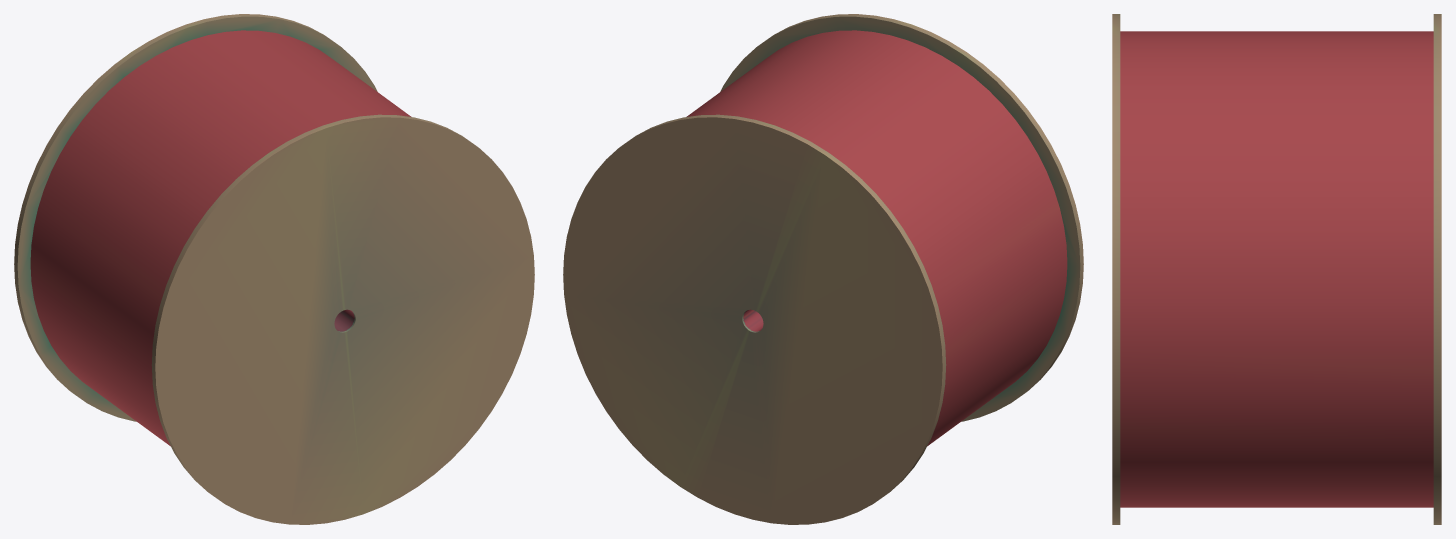
3 views of the same model, side by side, from view 1: azimuth 30°, elevation 25°; view 2: azimuth 150°, elevation 25°; view 3: azimuth 270°, elevation 25° (orthographic). The views are drawn at different scales.
Visible parts, largest first — view 1: disc, red_barrel, plate; view 2: plate, red_barrel, disc; view 3: red_barrel, disc, plate.
Part boxes in pixels (box(x1,y1,x2,y2)): disc: box(151, 114, 534, 524); red_barrel: box(30, 30, 411, 446); plate: box(14, 14, 377, 421); plate: box(563, 114, 946, 524); red_barrel: box(686, 30, 1067, 446); disc: box(720, 14, 1083, 421); red_barrel: box(1120, 31, 1433, 507); disc: box(1112, 14, 1120, 524); plate: box(1433, 14, 1441, 524).
Size of the model in its own units: 0.5 by 0.5 by 0.3221.
